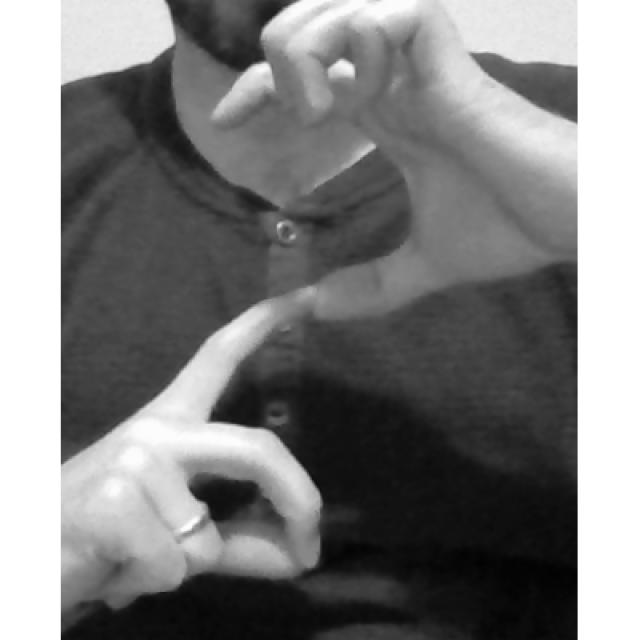S_: (60, 0, 579, 613)
